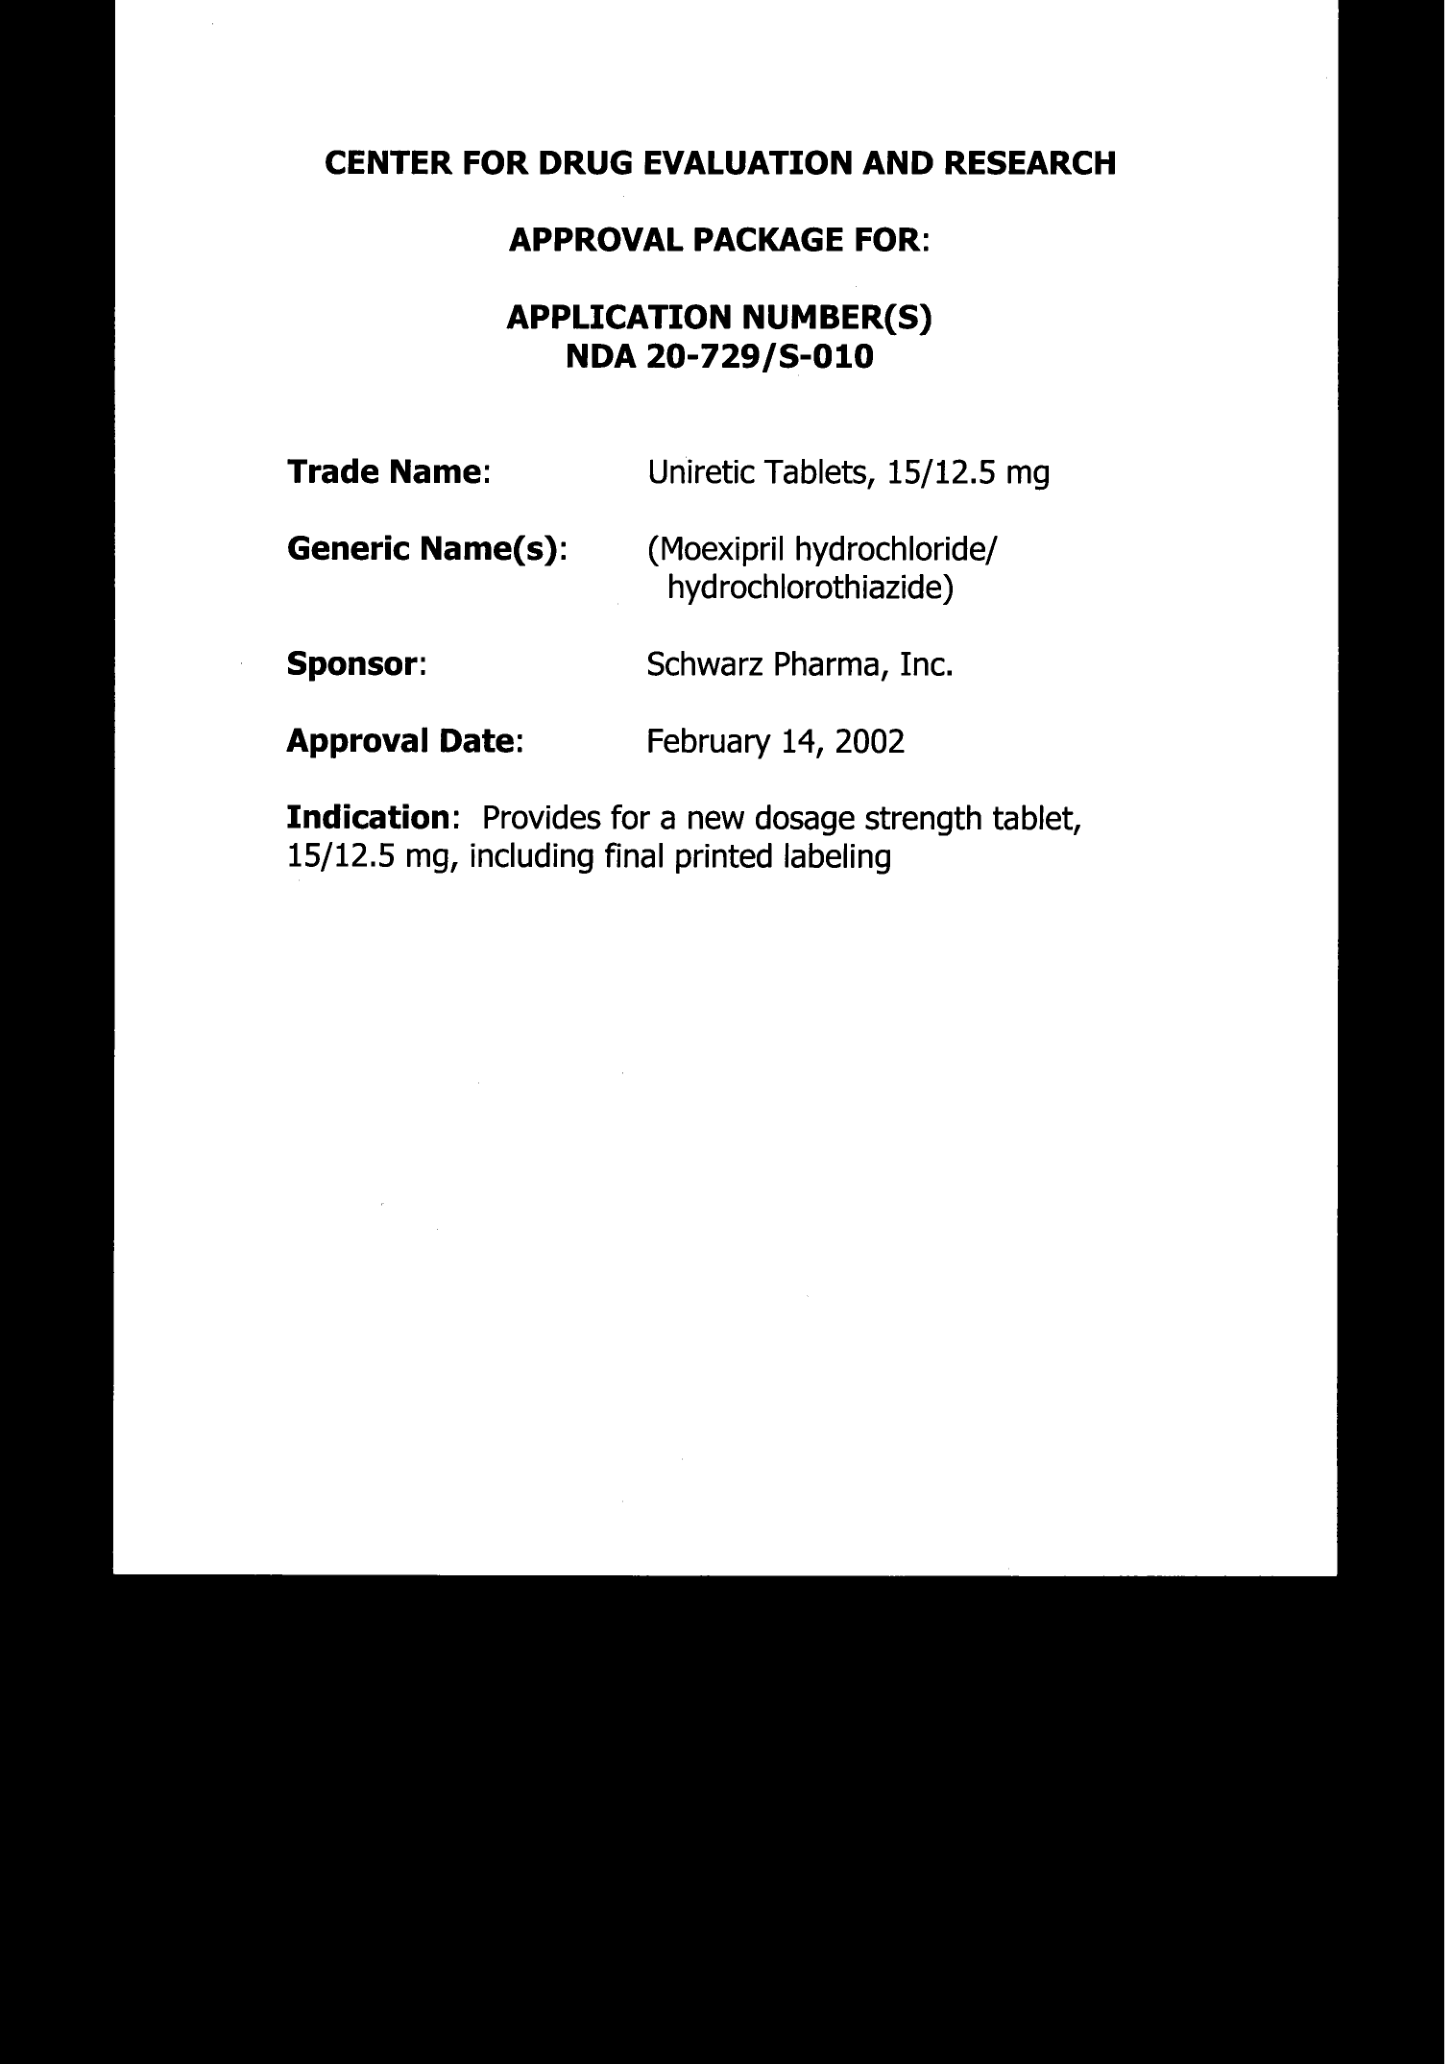nolines: (281, 446, 1081, 883)
